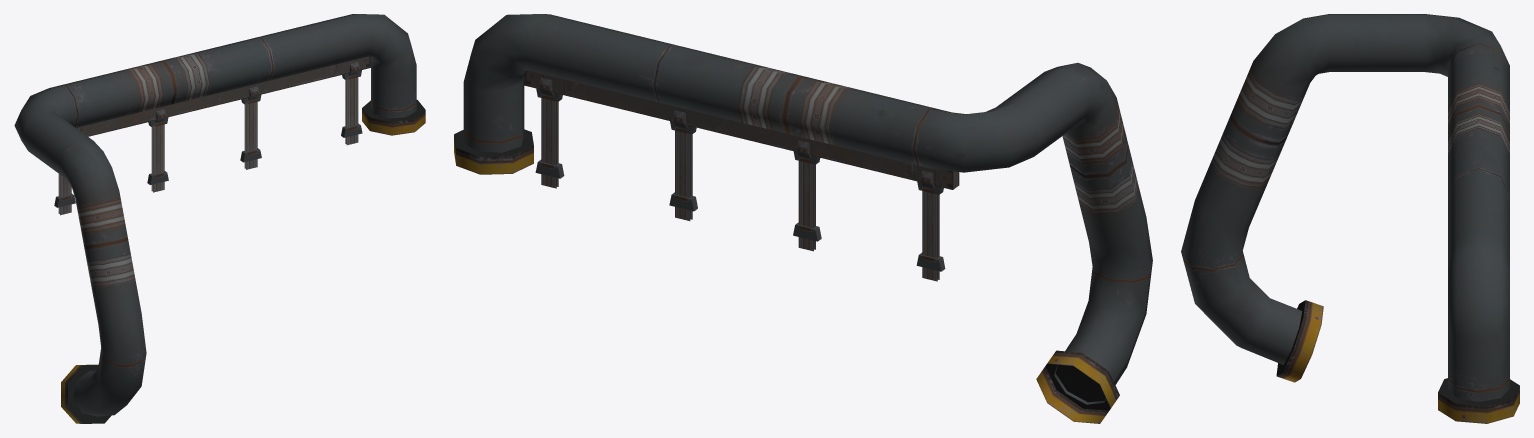
File: Wall3_Pipe3_L1.fbx
3 renders of one model, left to right at view 1: azimuth 30°, elevation 25°; view 2: azimuth 150°, elevation 25°; view 3: azimuth 270°, elevation 25°, orthographic. The views are drawn at different scales.
Parts seen in each view (by area): view 1: Wall3_Pipe3_L1; view 2: Wall3_Pipe3_L1; view 3: Wall3_Pipe3_L1.
Part boxes in pixels (box(x1,y1,x2,y2)): Wall3_Pipe3_L1: box(14, 14, 425, 423); Wall3_Pipe3_L1: box(454, 14, 1152, 423); Wall3_Pipe3_L1: box(1181, 14, 1519, 423).
Bounding box in the file's own units: 260 × 162 × 137.
